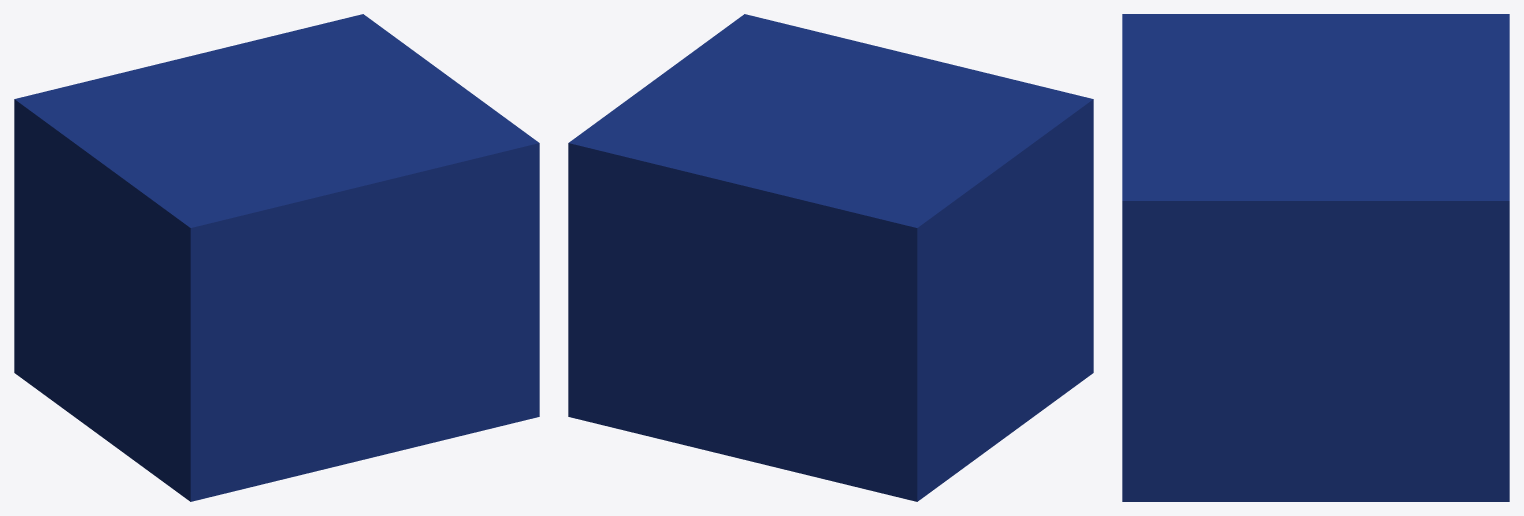
File: SY-832_2B_extruded.glb
3 renders of one model, left to right at view 1: azimuth 30°, elevation 25°; view 2: azimuth 150°, elevation 25°; view 3: azimuth 270°, elevation 25°, orthographic. The views are drawn at different scales.
Parts seen in each view (by area): view 1: Building_Cadastre_SY_832_2B; view 2: Building_Cadastre_SY_832_2B; view 3: Building_Cadastre_SY_832_2B.
Part boxes in pixels (<box>): Building_Cadastre_SY_832_2B: <box>14,14,539,501</box>; Building_Cadastre_SY_832_2B: <box>568,14,1093,501</box>; Building_Cadastre_SY_832_2B: <box>1122,14,1509,501</box>.
Bounding box in the file's own units: 16 × 12 × 14.
